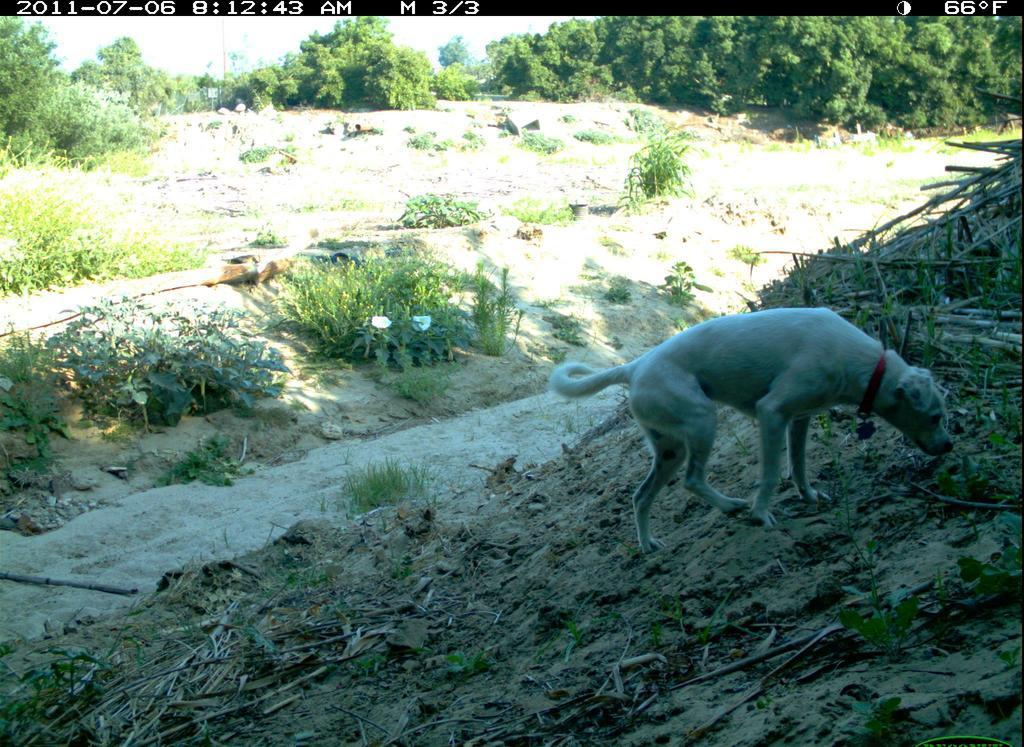dog: (551, 303, 958, 551)
